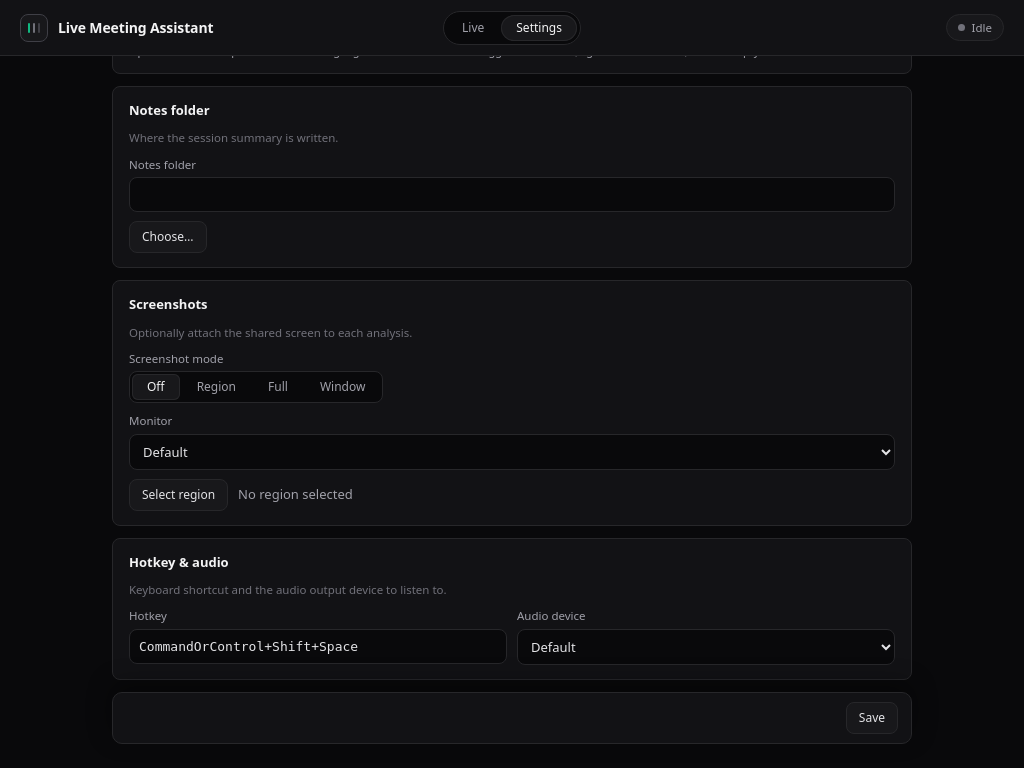
window_mode_shows_list_windows_error
(page scrolled)
Click the button "Window": (343, 387) [305, 374, 380, 400]
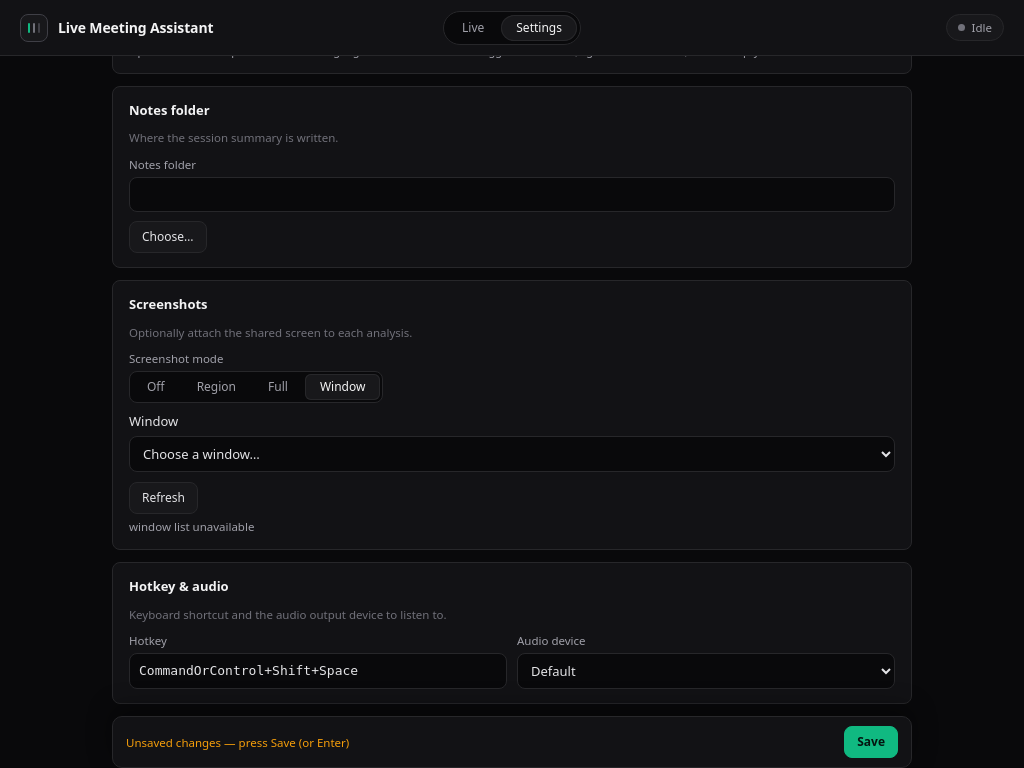
Expected: the text "window list unavailable" is shown, [129, 519, 254, 534]
